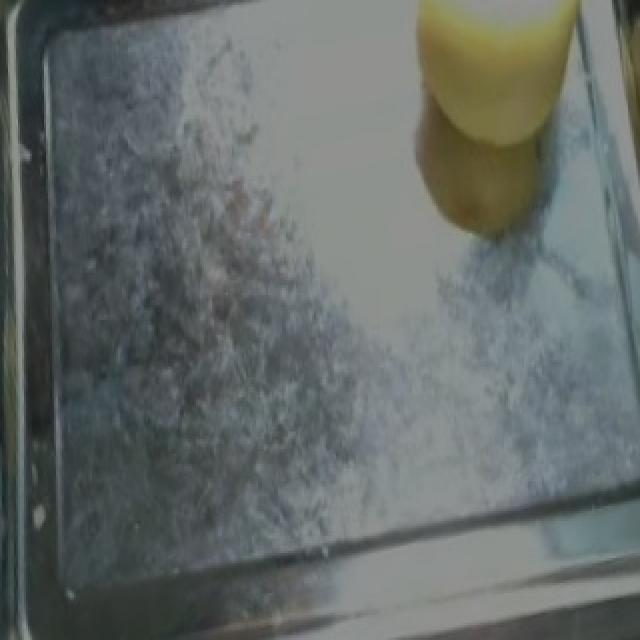Fruit: (380, 0, 614, 246)
